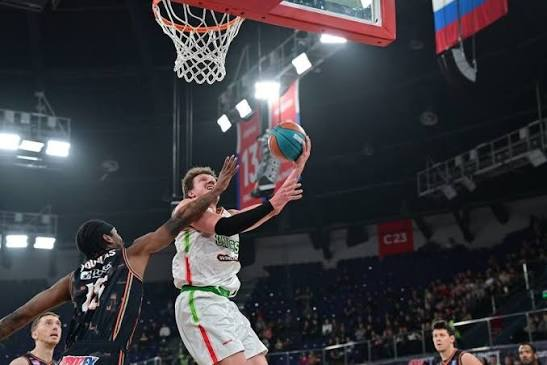ball: (269, 121, 307, 164)
ignore: (9, 312, 63, 364), (430, 320, 486, 364), (515, 342, 542, 364)
player: (0, 154, 241, 363), (171, 138, 309, 362)
